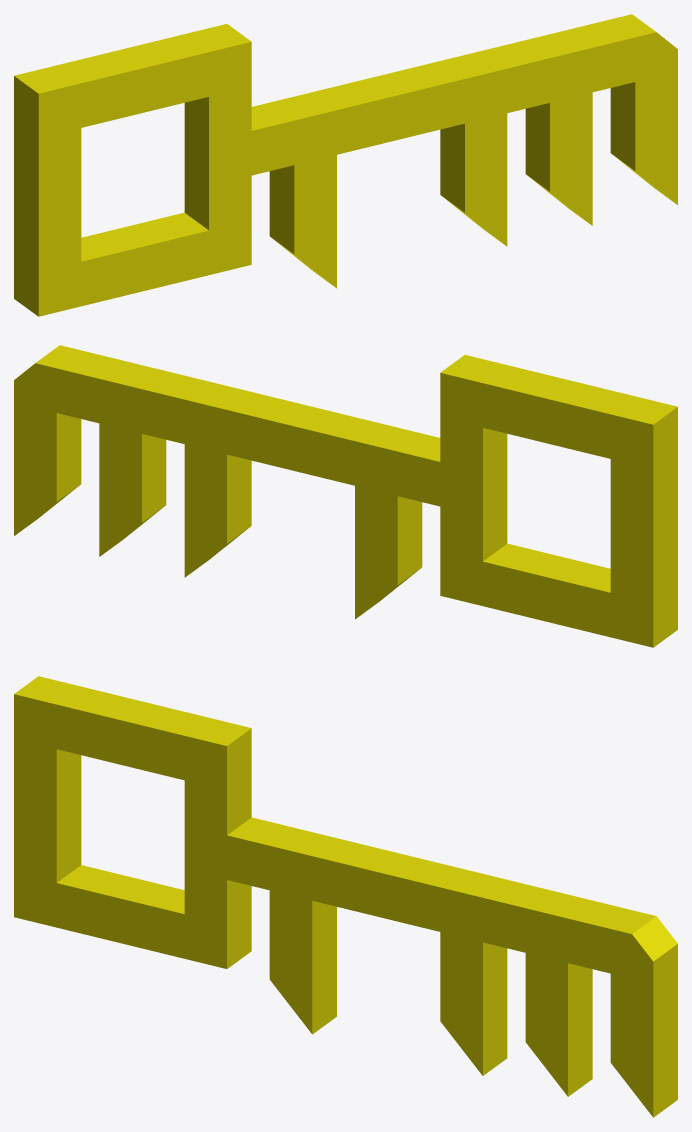
File: Items.fbx_Key_21.fbx
3 views of the same model, one above another, from view 1: azimuth 30°, elevation 25°; view 2: azimuth 150°, elevation 25°; view 3: azimuth 330°, elevation 25° (orthographic).
Parts seen in each view (by area): view 1: Key 21; view 2: Key 21; view 3: Key 21.
Part boxes in pixels (bbox=[...]): Key 21: bbox=[14, 14, 677, 316]; Key 21: bbox=[14, 345, 677, 647]; Key 21: bbox=[14, 676, 677, 1117].
Size of the model in its own units: 30 by 12 by 2.
